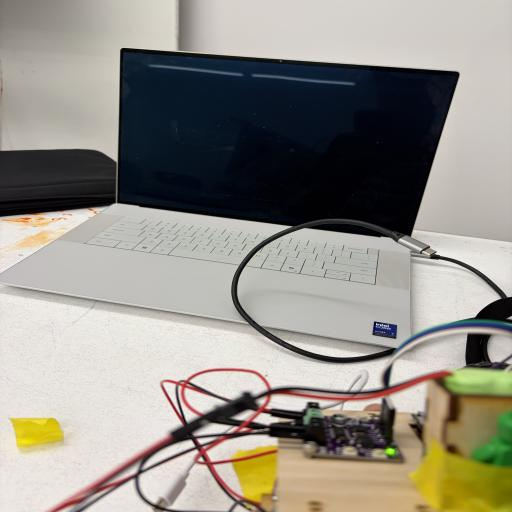Green-Lego: (472, 410, 512, 466)
